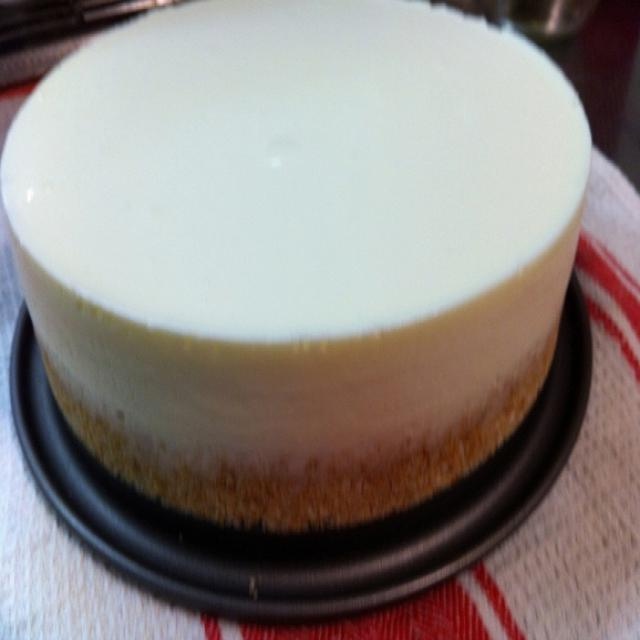Rare cheese cake: (5, 3, 606, 569)
